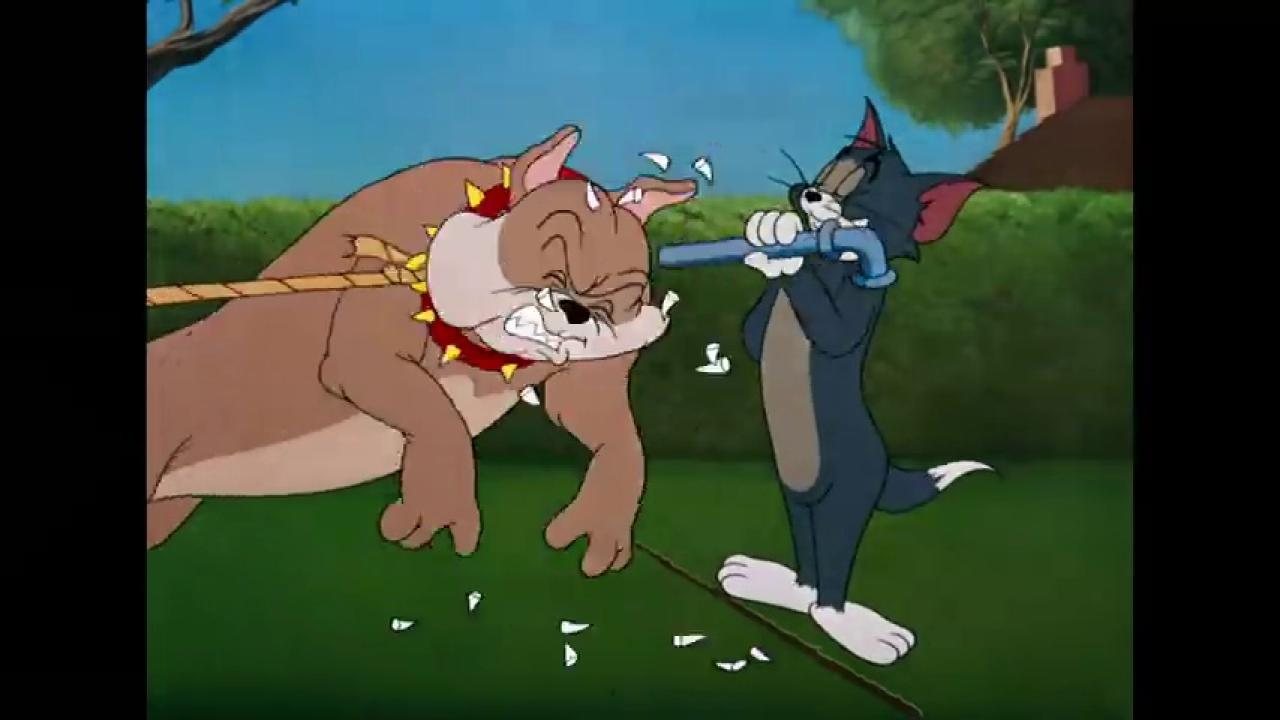Tom: (714, 93, 1002, 667)
